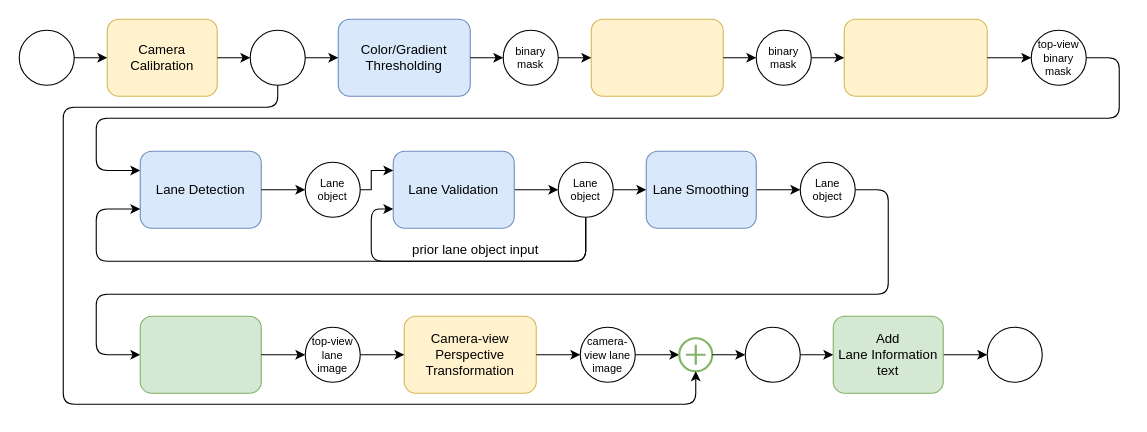
Image size: 1147x432. Some labels were removed from this diagram. The box of each missing label's shape, as (x1, y1, x2, y2) in pixels:
AR Frame: (744, 326, 800, 382)
Bird-view Perspecitve Transformation: (843, 18, 987, 96)
Cut Region Of Interest (where lane is expected to be): (590, 18, 723, 96)
Draw Lane: (139, 315, 261, 393)
Frame: (18, 29, 74, 85)
Processed Frame: (986, 326, 1042, 382)
Undistorted Image: (249, 29, 305, 85)
